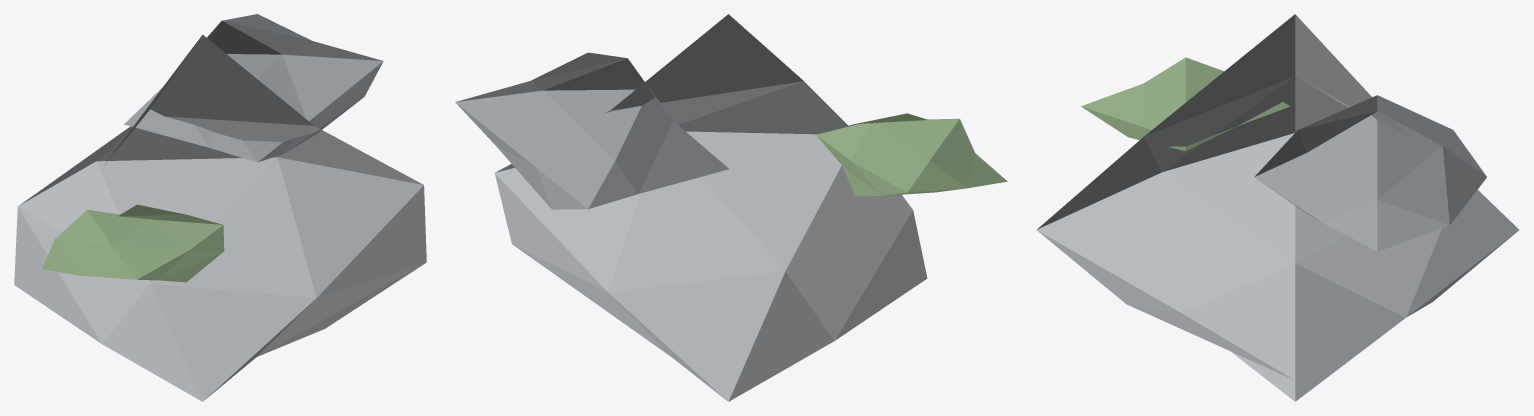
Rendered from boulder_v02.glb.
The picture shows the model from 3 angles, left to right: view 1: azimuth 30°, elevation 25°; view 2: azimuth 150°, elevation 25°; view 3: azimuth 270°, elevation 25°; orthographic projection. The views are drawn at different scales.
Parts seen in each view (by area): view 1: lod0; view 2: lod0; view 3: lod0.
Part boxes in pixels (x1,y1,x2,y2): lod0: (14, 14, 426, 401); lod0: (455, 14, 1007, 401); lod0: (1037, 14, 1518, 401).
Size of what is drawn, in the model's own units: 2.51 by 2.03 by 2.29.
